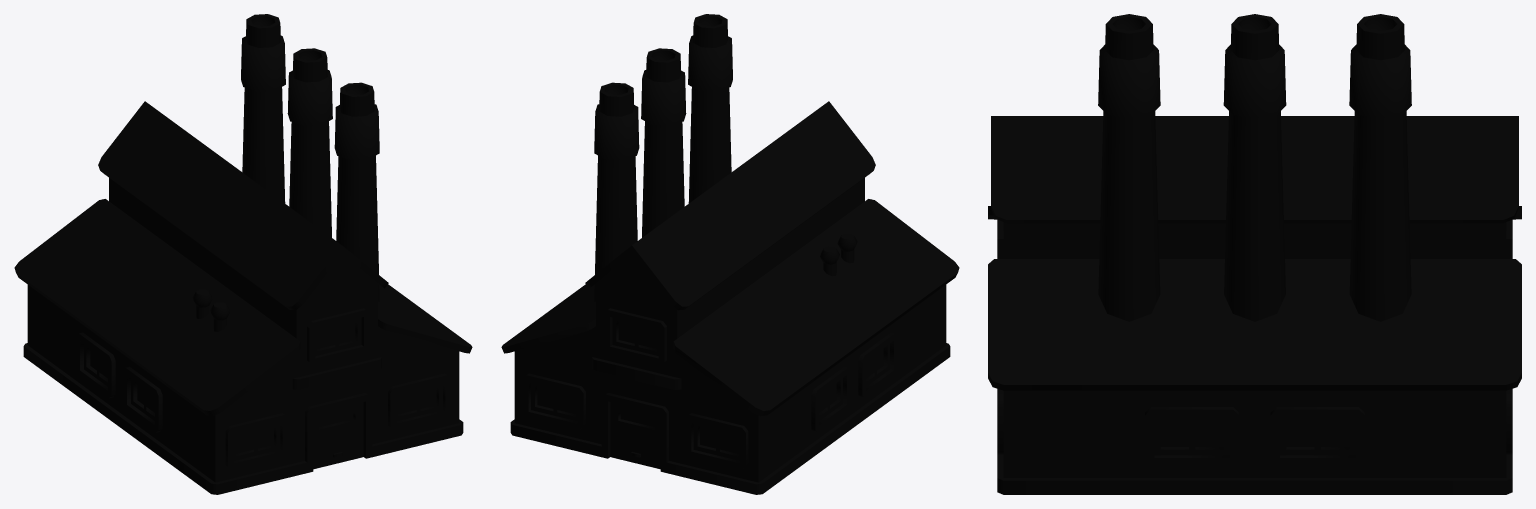
Rendered from building-m.glb.
The picture shows the model from 3 angles, left to right: view 1: azimuth 30°, elevation 25°; view 2: azimuth 150°, elevation 25°; view 3: azimuth 270°, elevation 25°; orthographic projection. The views are drawn at different scales.
Parts seen in each view (by area): view 1: building-m; view 2: building-m; view 3: building-m.
Part boxes in pixels (box(x1,y1,x2,y2)): building-m: box(14, 14, 472, 494); building-m: box(501, 14, 959, 494); building-m: box(988, 14, 1521, 494).
Bounding box in the file's own units: 1.32 × 1.52 × 1.7.
1 material, 1 textured.
